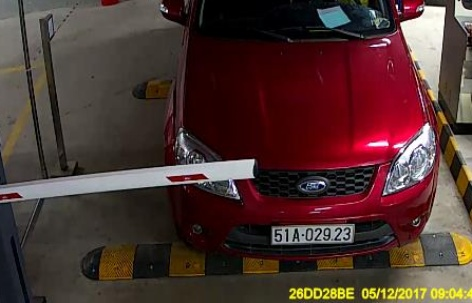plate: (263, 213, 357, 246)
